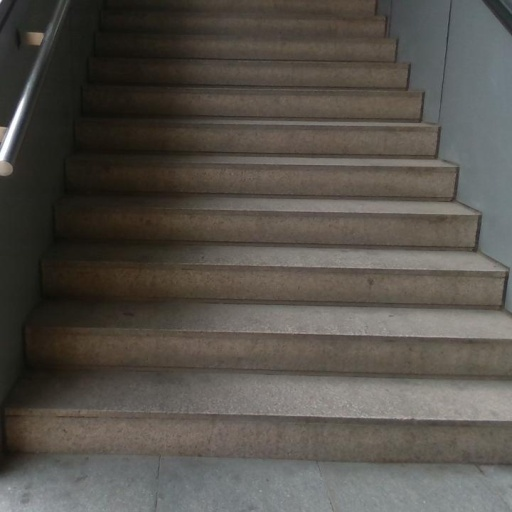Stairs: (31, 0, 512, 462)
